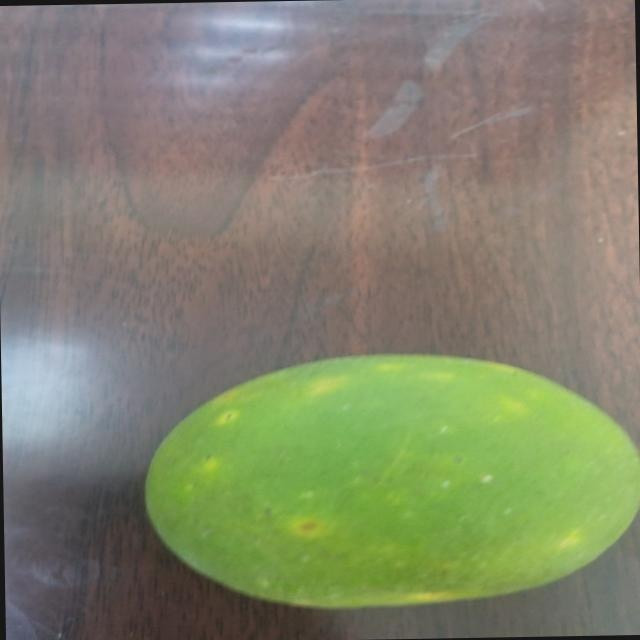agrume: (134, 344, 638, 607)
